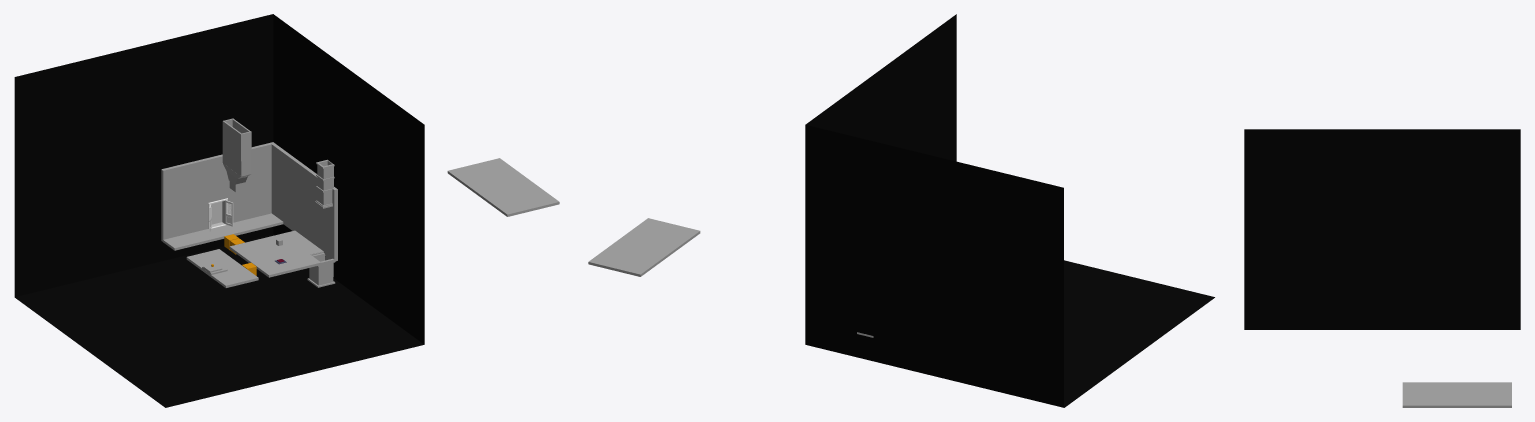
File: Level[BoxBridgeTutorial].fbx
3 views of the same model, side by side, from view 1: azimuth 30°, elevation 25°; view 2: azimuth 150°, elevation 25°; view 3: azimuth 270°, elevation 25° (orthographic). The views are drawn at different scales.
Parts seen in each view (by area): view 1: pPlane3, pPlane1, pPlane2, polySurface55, polySurface57, floor5, polySurface56, floor, floor1, floor2, pCube64, polySurface58; view 2: pPlane3, pPlane1, pPlane2, floor5; view 3: pPlane2, floor5.
Part boxes in pixels (<box>): pPlane3: <box>14,14,273,296</box>; pPlane1: <box>15,234,423,407</box>; pPlane2: <box>273,14,424,344</box>; polySurface55: <box>271,142,337,261</box>; polySurface57: <box>161,158,209,241</box>; floor5: <box>447,158,559,216</box>; polySurface56: <box>226,142,272,222</box>; floor: <box>229,233,321,277</box>; floor1: <box>163,213,283,250</box>; floor2: <box>186,249,258,287</box>; pCube64: <box>222,120,242,176</box>; polySurface58: <box>208,154,225,202</box>; pPlane3: <box>805,124,1063,407</box>; pPlane1: <box>1064,260,1214,407</box>; pPlane2: <box>806,14,956,161</box>; floor5: <box>588,218,700,276</box>; pPlane2: <box>1244,129,1520,329</box>; floor5: <box>1402,382,1511,407</box>.
Bounding box in the file's own units: 105 × 46.27 × 57.42.
7 materials, 1 textured.
